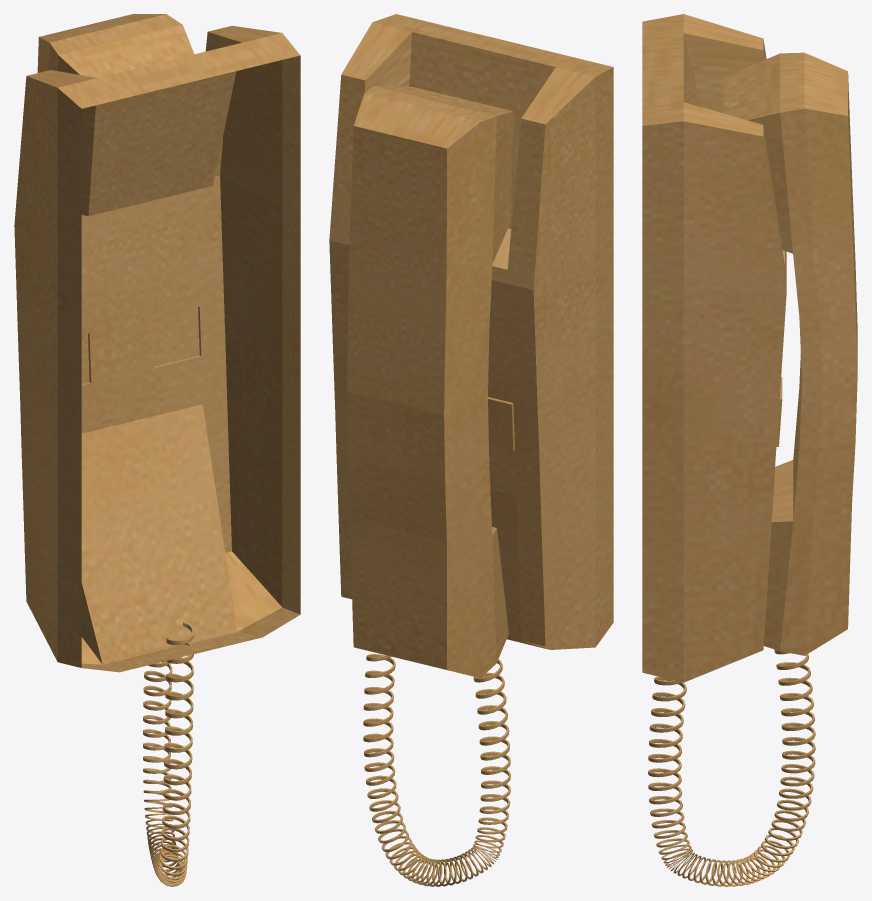
File: Telefono_Living.fbx
The picture shows the model from 3 angles, left to right: view 1: azimuth 30°, elevation 25°; view 2: azimuth 150°, elevation 25°; view 3: azimuth 270°, elevation 25°; orthographic projection. The views are drawn at different scales.
Visible parts, largest first — view 1: Telefono_Living; view 2: Telefono_Living; view 3: Telefono_Living.
Boxes of the visible parts, x1,y1,x2,y2 form: Telefono_Living: [14, 14, 300, 886]; Telefono_Living: [329, 14, 613, 886]; Telefono_Living: [642, 14, 857, 886].
Size of the model in its own units: 0.0841 by 0.2969 by 0.0714.
